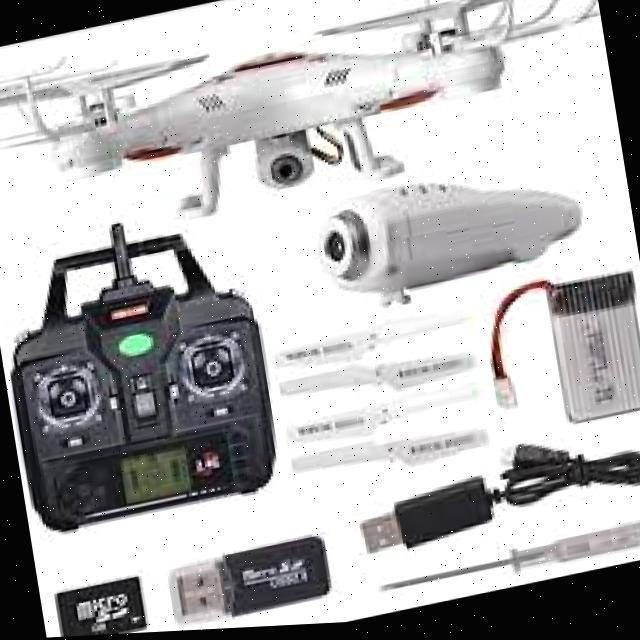drone: (0, 0, 621, 275)
